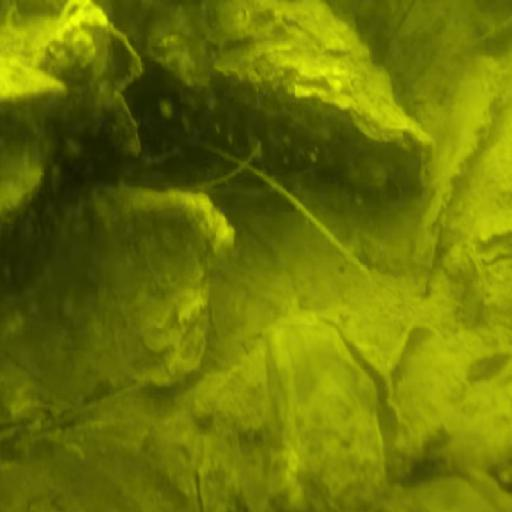Oyster-Closed: (136, 1, 450, 185), (34, 184, 230, 404)
Oyster-Open: (195, 313, 410, 512)
